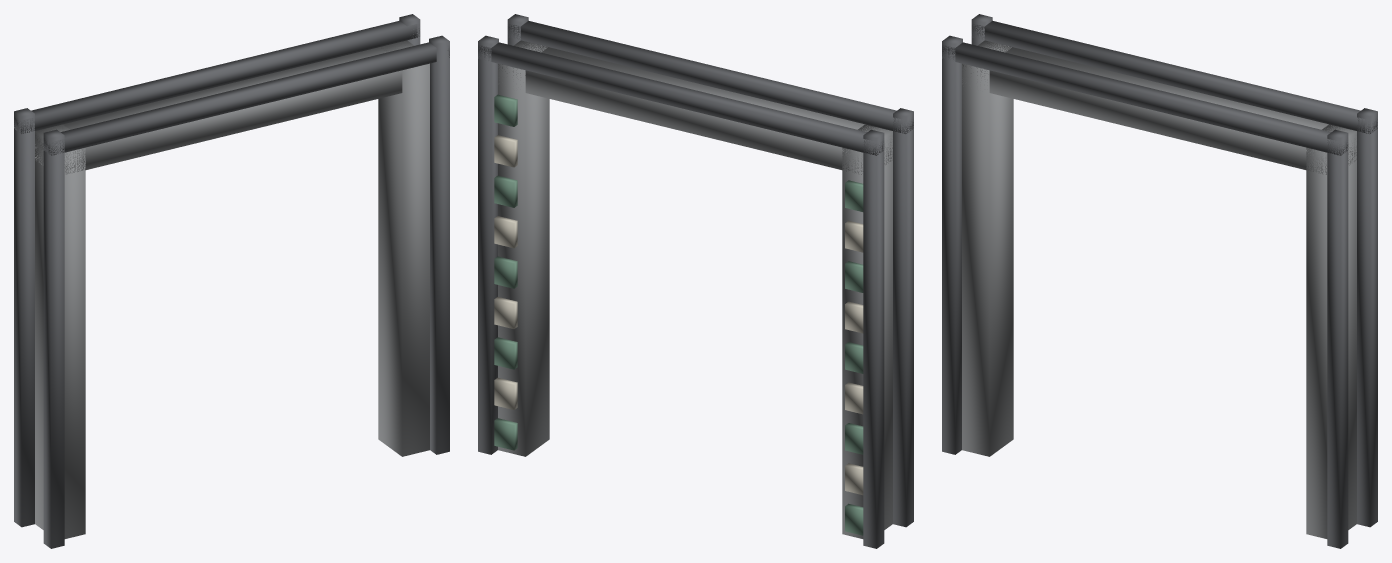
File: doorway_tile_return_w182_h200_d24.glb
3 renders of one model, left to right at view 1: azimuth 30°, elevation 25°; view 2: azimuth 150°, elevation 25°; view 3: azimuth 330°, elevation 25°, orthographic.
Visible parts, largest first — view 1: world; view 2: world; view 3: world.
Boxes of the visible parts, box(x1,y1,x2,y2) form: world: box(14, 14, 449, 548); world: box(478, 14, 913, 548); world: box(942, 14, 1377, 548).
Bounding box in the file's own units: 2.29 × 2.26 × 0.3706.
